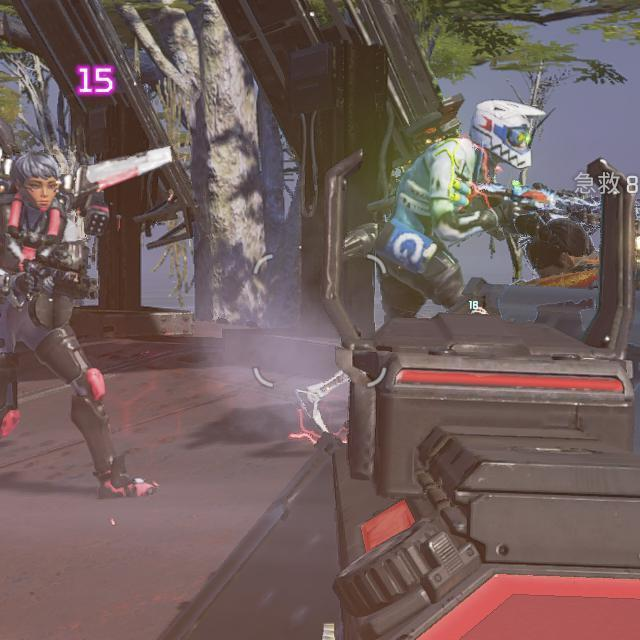avatar: (0, 145, 159, 504), (380, 97, 546, 313)
